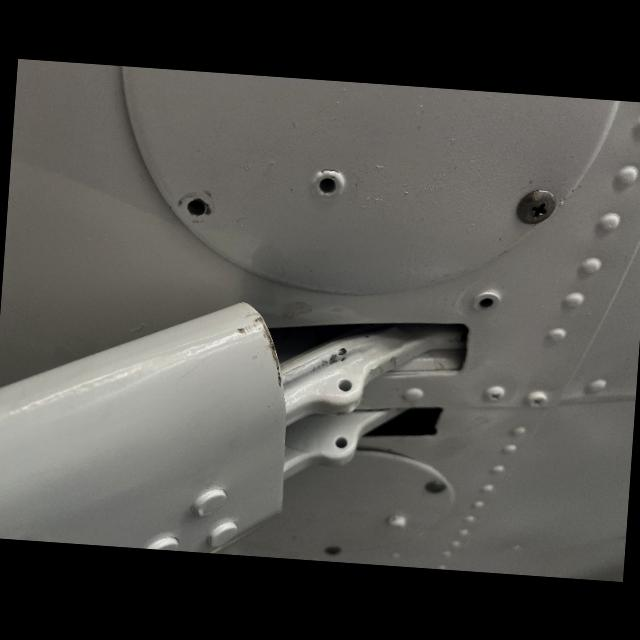Missing Fastener: (170, 190, 220, 222)
